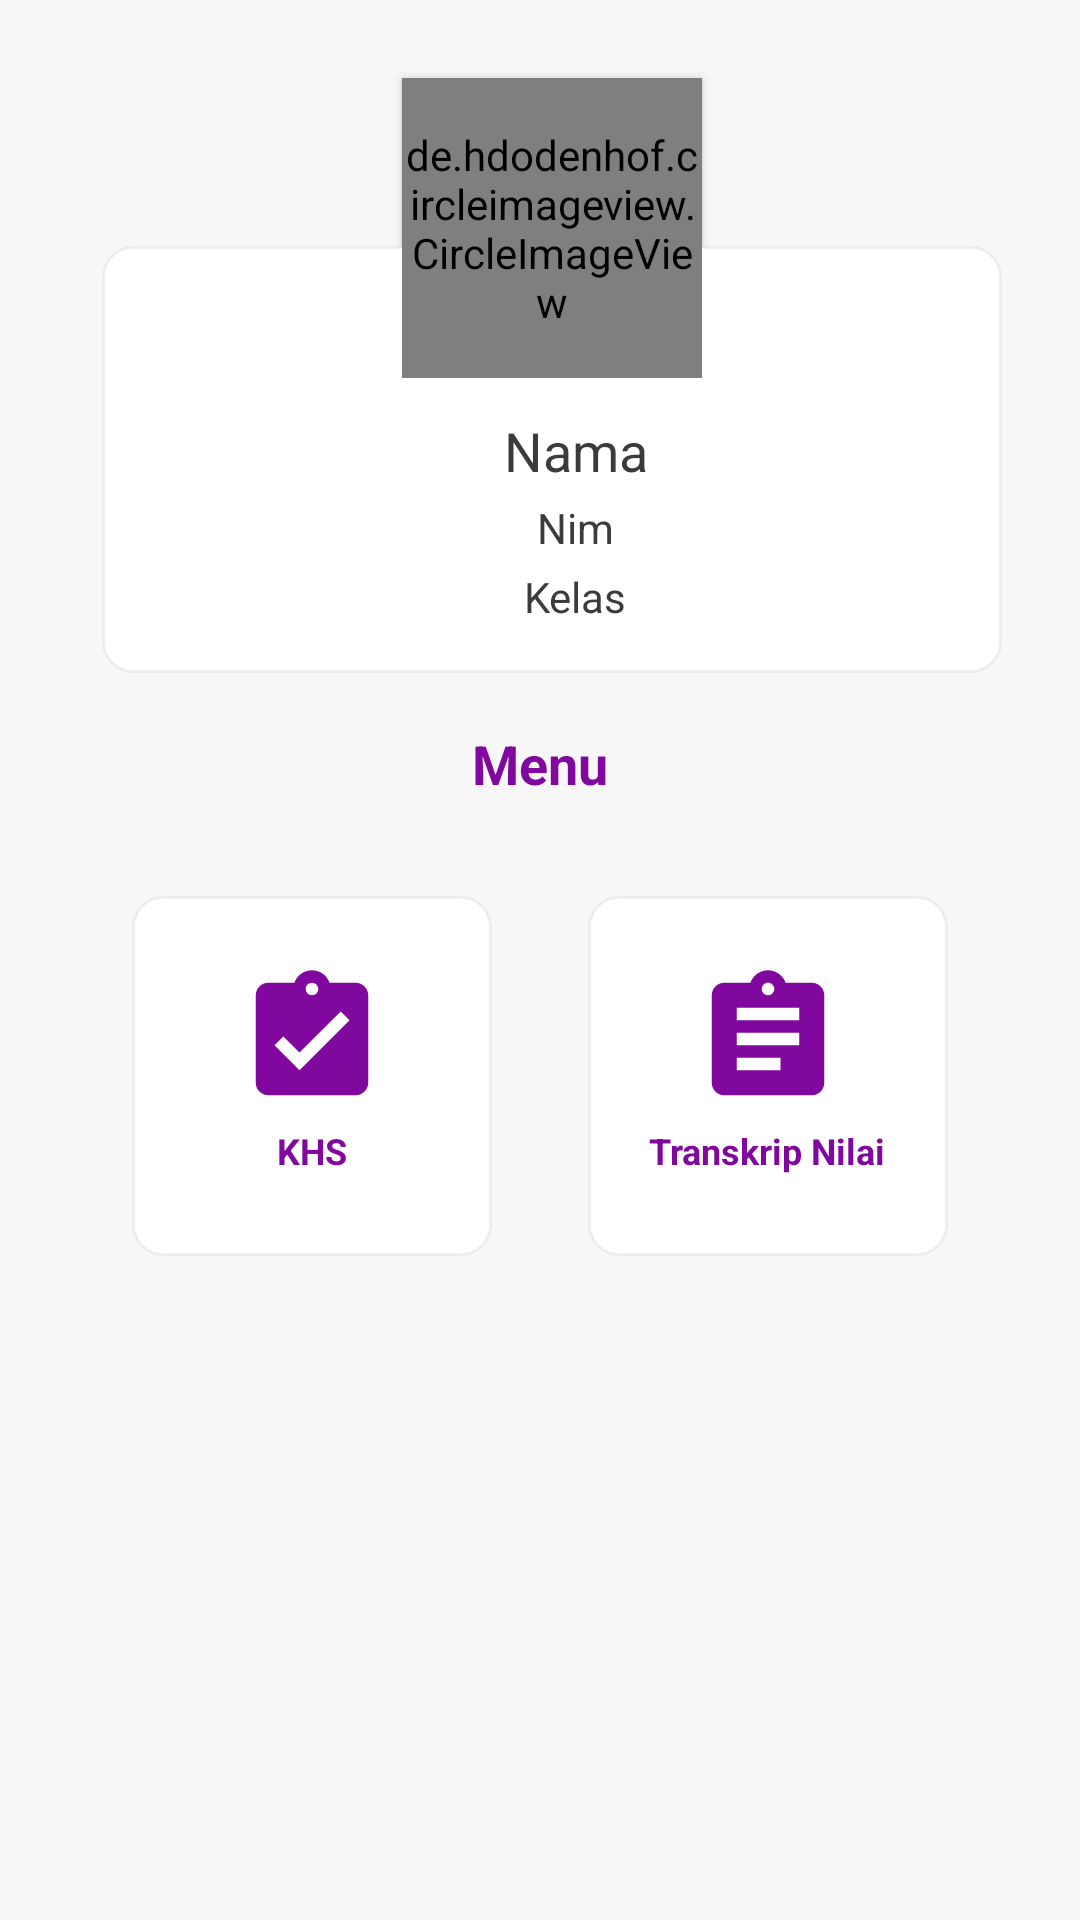

Named icons in this screenshot (1080×1920) and their bounding boxes, (x1, y1, x2, y2):
assignment: (711, 970, 825, 1096)
assignment turned: (255, 970, 369, 1096)
